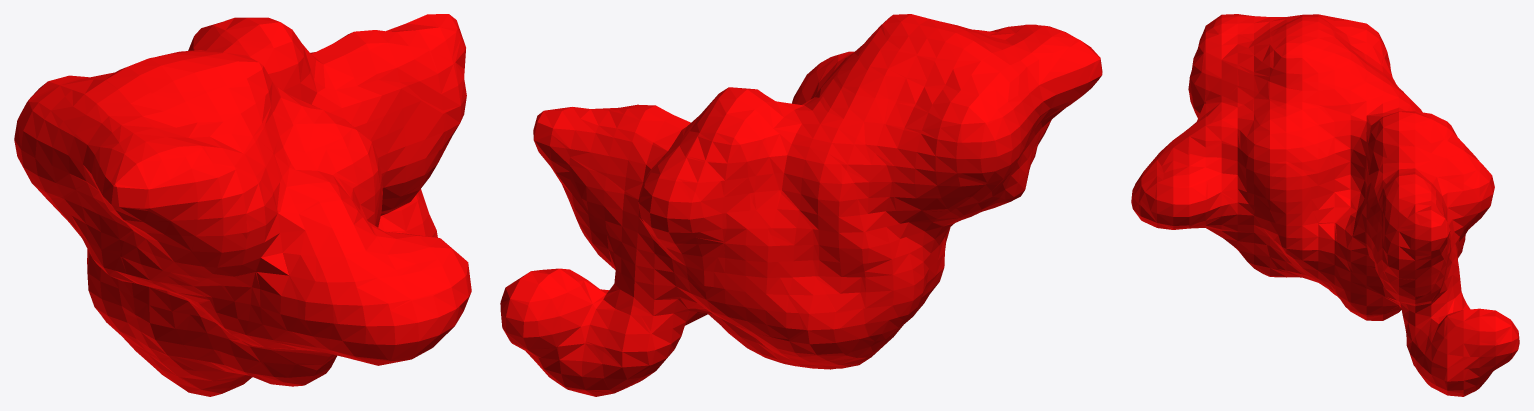
Rendered from rsxB_coarse.dae.
The picture shows the model from 3 angles, left to right: view 1: azimuth 30°, elevation 25°; view 2: azimuth 150°, elevation 25°; view 3: azimuth 270°, elevation 25°; orthographic projection. The views are drawn at different scales.
Visible parts, largest first — view 1: rsxB; view 2: rsxB; view 3: rsxB.
Part boxes in pixels (bbox=[...]): rsxB: bbox=[14, 14, 471, 396]; rsxB: bbox=[500, 14, 1102, 396]; rsxB: bbox=[1131, 14, 1519, 396].
Size of the model in its own units: 59.29 by 45.92 by 59.39.
